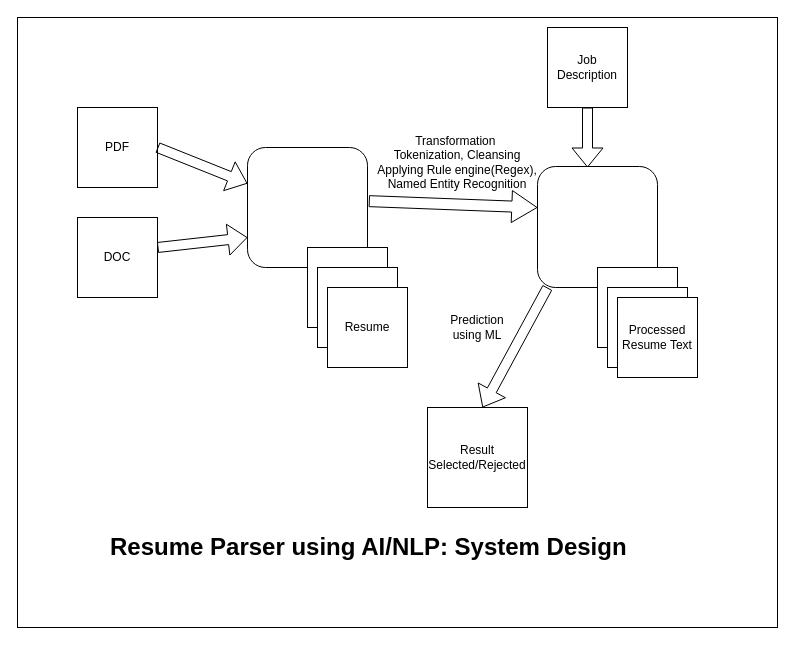
This 795x645 diagram has some shape labels left out. The shapes that lost their labels are listed below. From the top down, each one's centre as x and y in pixels, then its label:
At point 307,207: "AI Resume Parser".
At point 597,227: "AI Resume Matcher".
